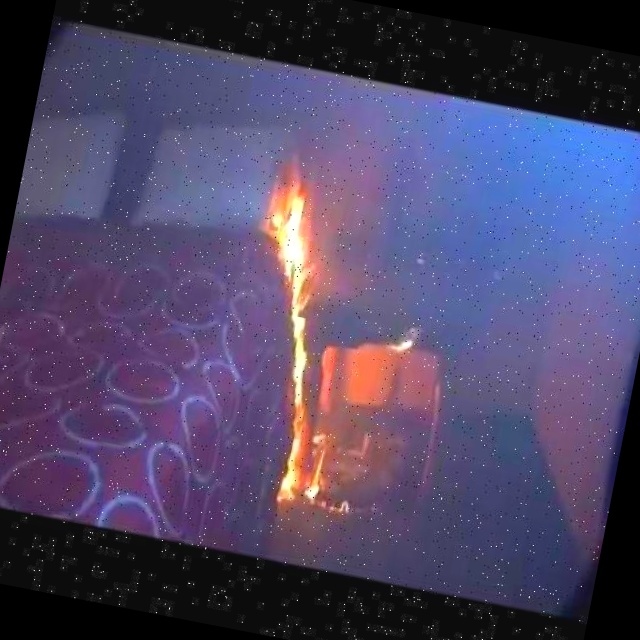fire: (190, 147, 424, 533)
